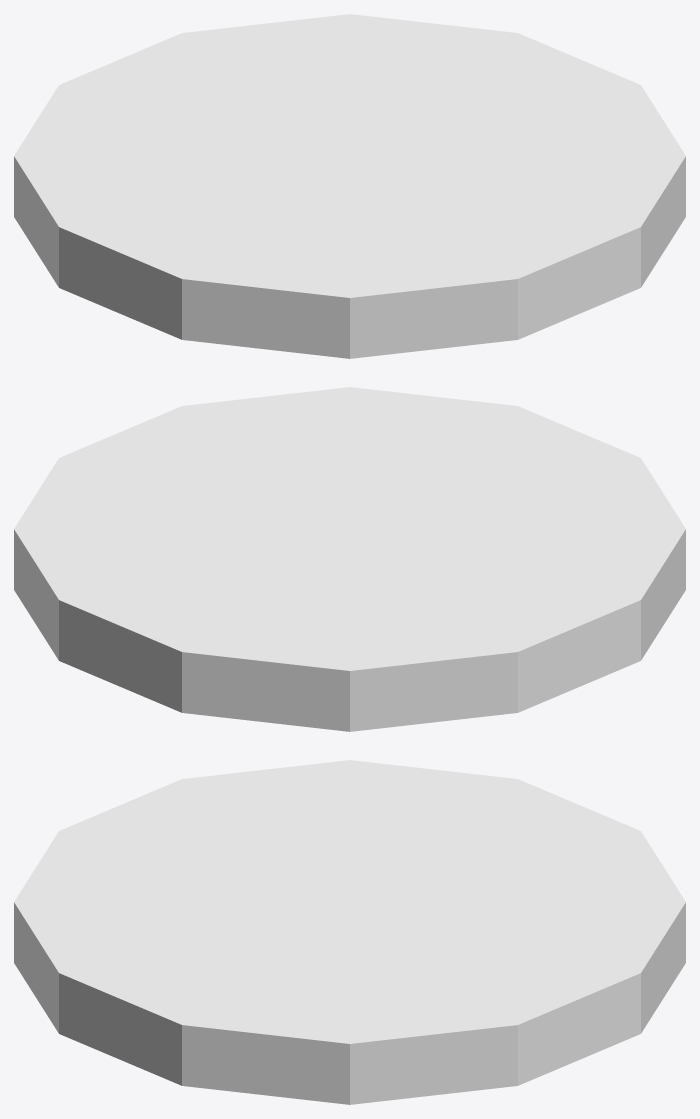
The model's file is CylinderMesh.FBX.
The picture shows the model from 3 angles, top to bottom: view 1: azimuth 30°, elevation 25°; view 2: azimuth 150°, elevation 25°; view 3: azimuth 270°, elevation 25°; orthographic projection.
Parts seen in each view (by area): view 1: Cylinder001; view 2: Cylinder001; view 3: Cylinder001.
Boxes of the visible parts, box(x1,y1,x2,y2) form: Cylinder001: box(14, 14, 685, 358); Cylinder001: box(14, 387, 685, 731); Cylinder001: box(14, 760, 685, 1104).
Bounding box in the file's own units: 10 × 1 × 10.
1 material, 1 textured.
